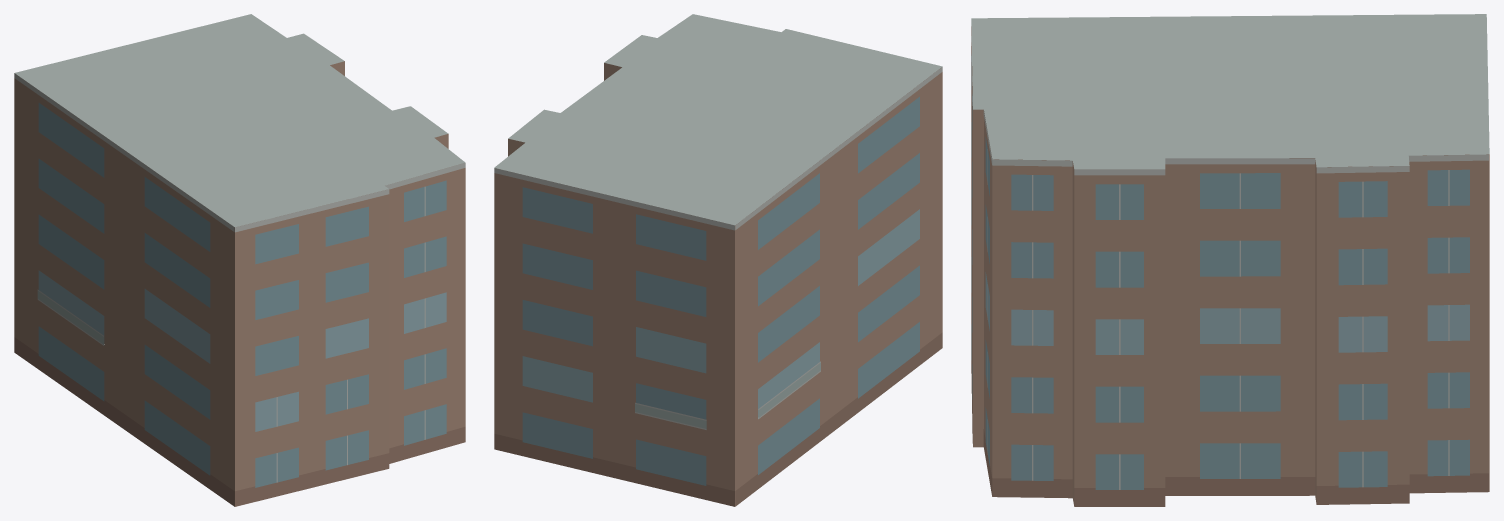
The model's file is survey-upis-32822032.glb.
The picture shows the model from 3 angles, left to right: view 1: azimuth 30°, elevation 25°; view 2: azimuth 150°, elevation 25°; view 3: azimuth 270°, elevation 25°; orthographic projection. The views are drawn at different scales.
Visible parts, largest first — view 1: survey-upis-32822032.tmp; view 2: survey-upis-32822032.tmp; view 3: survey-upis-32822032.tmp.
Boxes of the visible parts, x1,y1,x2,y2 form: survey-upis-32822032.tmp: (14,14,465,506); survey-upis-32822032.tmp: (494,14,942,506); survey-upis-32822032.tmp: (971,14,1489,506).
Size of the model in its own units: 13.23 by 13.4 by 18.65.
